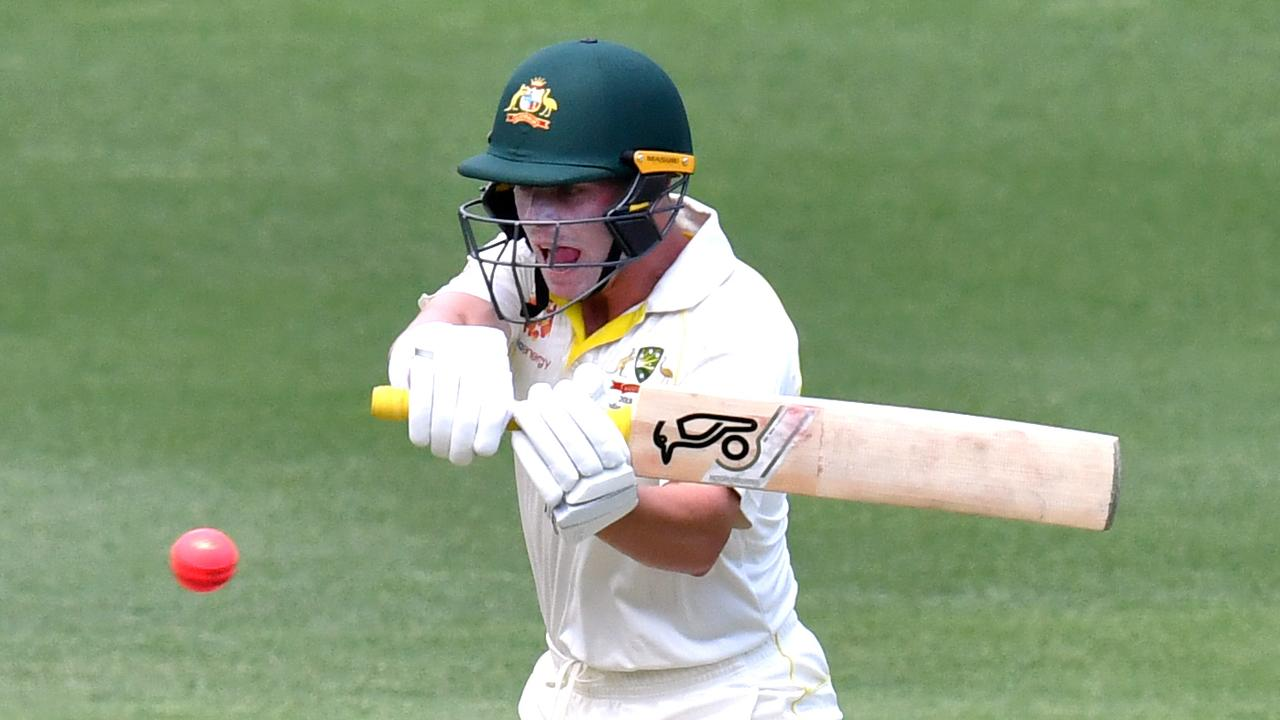Cutshot: (154, 5, 1170, 720)
